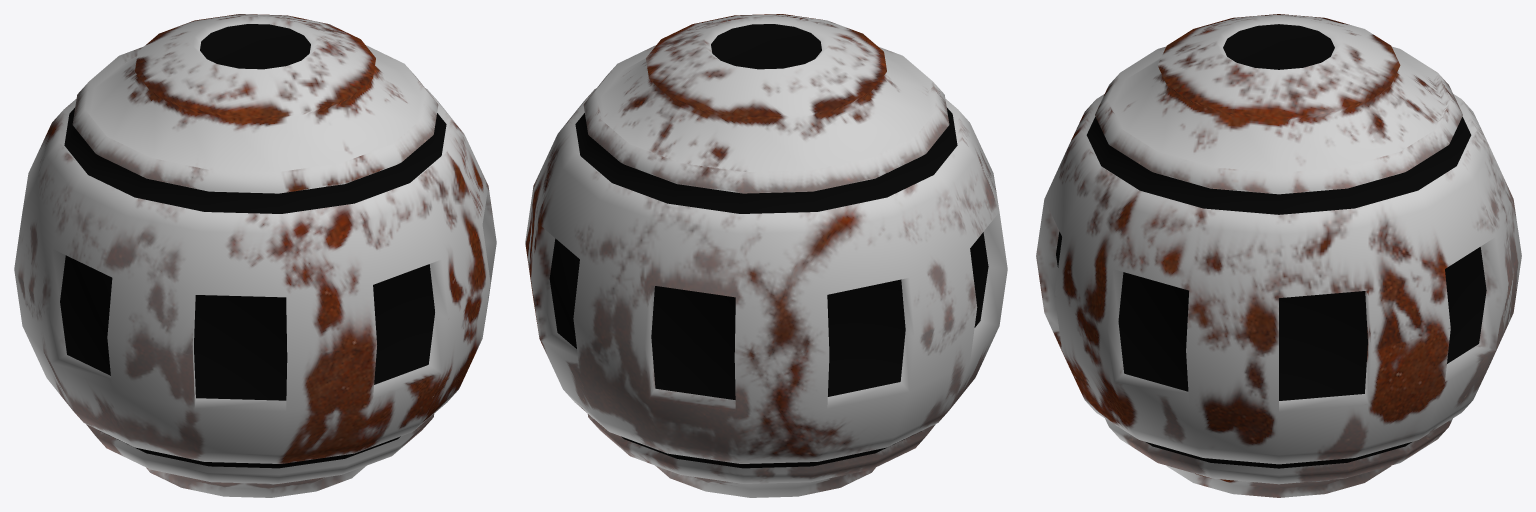
The model's file is GameBall.fbx.
3 renders of one model, left to right at view 1: azimuth 30°, elevation 25°; view 2: azimuth 150°, elevation 25°; view 3: azimuth 270°, elevation 25°, orthographic.
Visible parts, largest first — view 1: Sphere.006; view 2: Sphere.006; view 3: Sphere.006.
Part boxes in pixels (x1,y1,x2,y2): Sphere.006: (14,14,496,497); Sphere.006: (525,14,1007,497); Sphere.006: (1036,14,1521,497).
Bounding box in the file's own units: 300 × 294 × 300.
